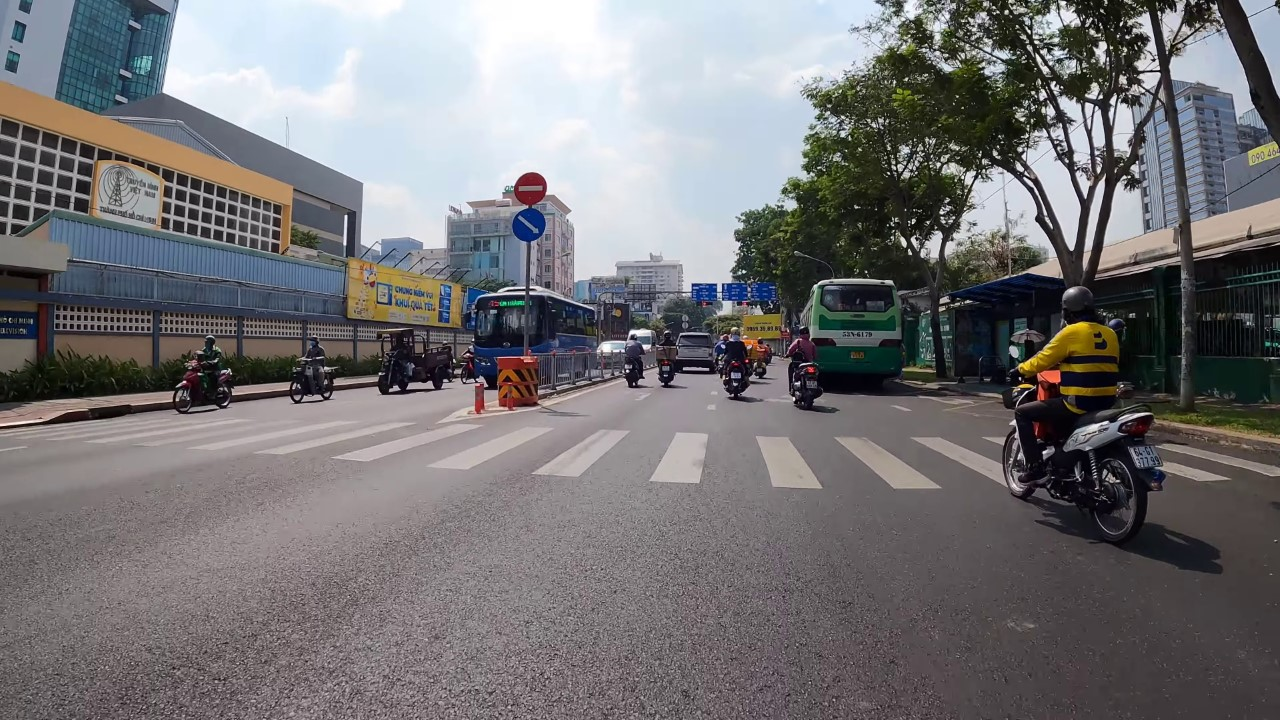cam_nguoc_chieu: (510, 171, 550, 207)
huong_phai_di_vong: (510, 207, 548, 245)
